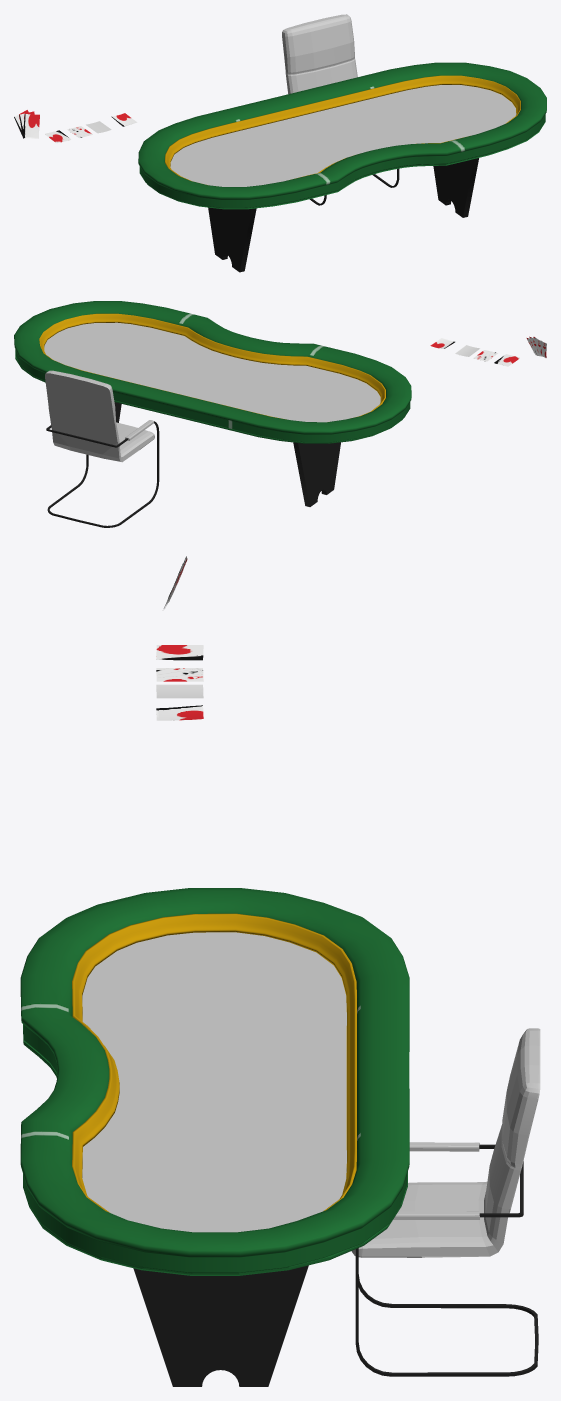
File: game.FBX
3 views of the same model, one above another, from view 1: azimuth 30°, elevation 25°; view 2: azimuth 150°, elevation 25°; view 3: azimuth 270°, elevation 25° (orthographic). The views are drawn at different scales.
Parts seen in each view (by area): view 1: Poker game bace, Poker game border cover, Chair, Lag, Poker game border, Poker game border bace, Card04; view 2: Poker game bace, Poker game border cover, Chair, Poker game border, Lag, Shape01, Poker game border bace; view 3: Poker game bace, Poker game border cover, Lag, Chair, Poker game border, Shape01, Poker game border bace.
Part boxes in pixels (bbox=[...]): Poker game bace: bbox=[170, 85, 516, 186]; Poker game border cover: bbox=[138, 62, 546, 207]; Chair: bbox=[282, 14, 357, 94]; Lag: bbox=[208, 158, 478, 272]; Poker game border: bbox=[165, 75, 520, 184]; Poker game border bace: bbox=[147, 121, 545, 209]; Card04: bbox=[23, 114, 39, 138]; Poker game bace: bbox=[44, 322, 380, 422]; Poker game border cover: bbox=[14, 301, 411, 442]; Chair: bbox=[45, 370, 154, 462]; Poker game border: bbox=[39, 313, 385, 418]; Lag: bbox=[114, 402, 340, 506]; Shape01: bbox=[46, 421, 159, 527]; Poker game border bace: bbox=[15, 353, 402, 443]; Poker game bace: bbox=[82, 932, 346, 1232]; Poker game border cover: bbox=[20, 888, 409, 1272]; Lag: bbox=[133, 1265, 308, 1386]; Chair: bbox=[351, 1028, 540, 1257]; Poker game border: bbox=[72, 913, 356, 1212]; Shape01: bbox=[355, 1144, 538, 1376]; Poker game border bace: bbox=[23, 1024, 407, 1275].
Bounding box in the file's own units: 103 × 40.53 × 45.31.
